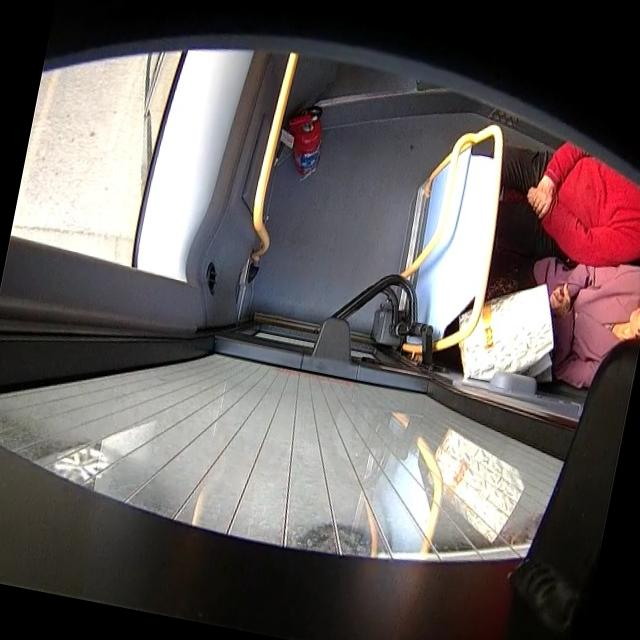bus-door: (0, 311, 640, 640)
